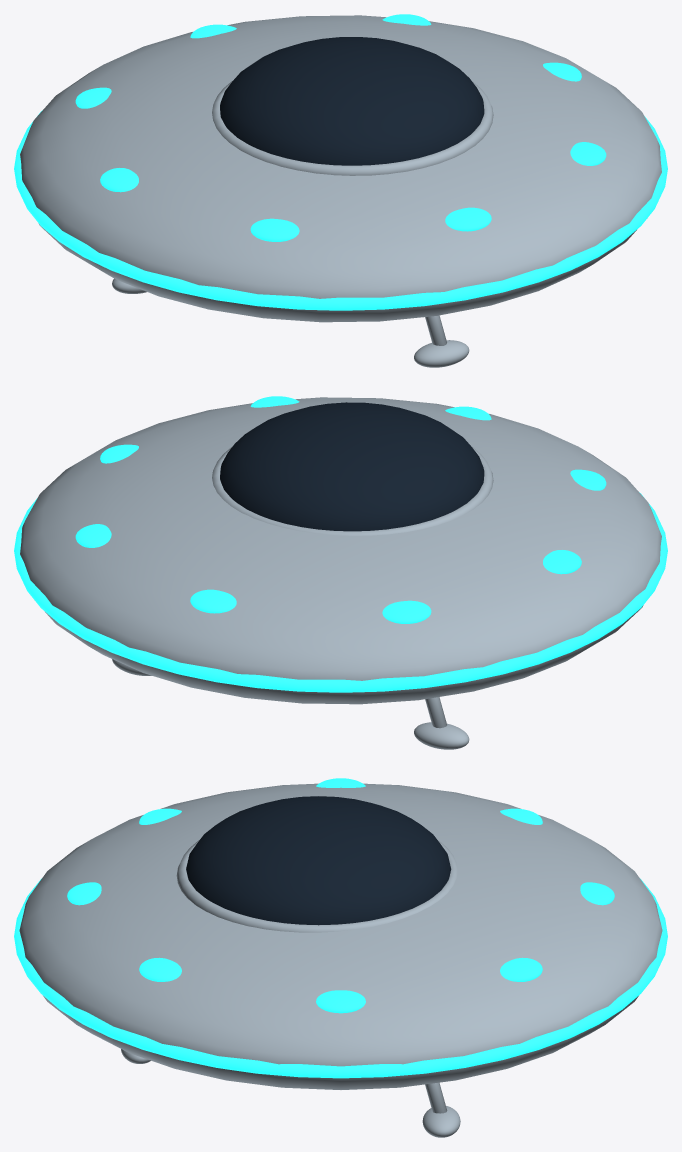
The model's file is Alien-0.glb.
3 views of the same model, one above another, from view 1: azimuth 30°, elevation 25°; view 2: azimuth 150°, elevation 25°; view 3: azimuth 270°, elevation 25° (orthographic).
Parts seen in each view (by area): view 1: Visitor Silver, Window Graphite, Ion Cyan; view 2: Visitor Silver, Window Graphite, Ion Cyan; view 3: Visitor Silver, Window Graphite, Ion Cyan.
Boxes of the visible parts, left/top/right/bottom form: Visitor Silver: left=20, top=15, right=661, bottom=367; Window Graphite: left=220, top=37, right=484, bottom=165; Ion Cyan: left=14, top=14, right=667, bottom=310; Visitor Silver: left=20, top=397, right=661, bottom=749; Window Graphite: left=220, top=402, right=484, bottom=531; Ion Cyan: left=14, top=396, right=667, bottom=692; Visitor Silver: left=19, top=783, right=662, bottom=1137; Window Graphite: left=186, top=796, right=451, bottom=925; Ion Cyan: left=14, top=778, right=667, bottom=1078.
Bounding box in the file's own units: 58.5 × 23.5 × 58.5.
